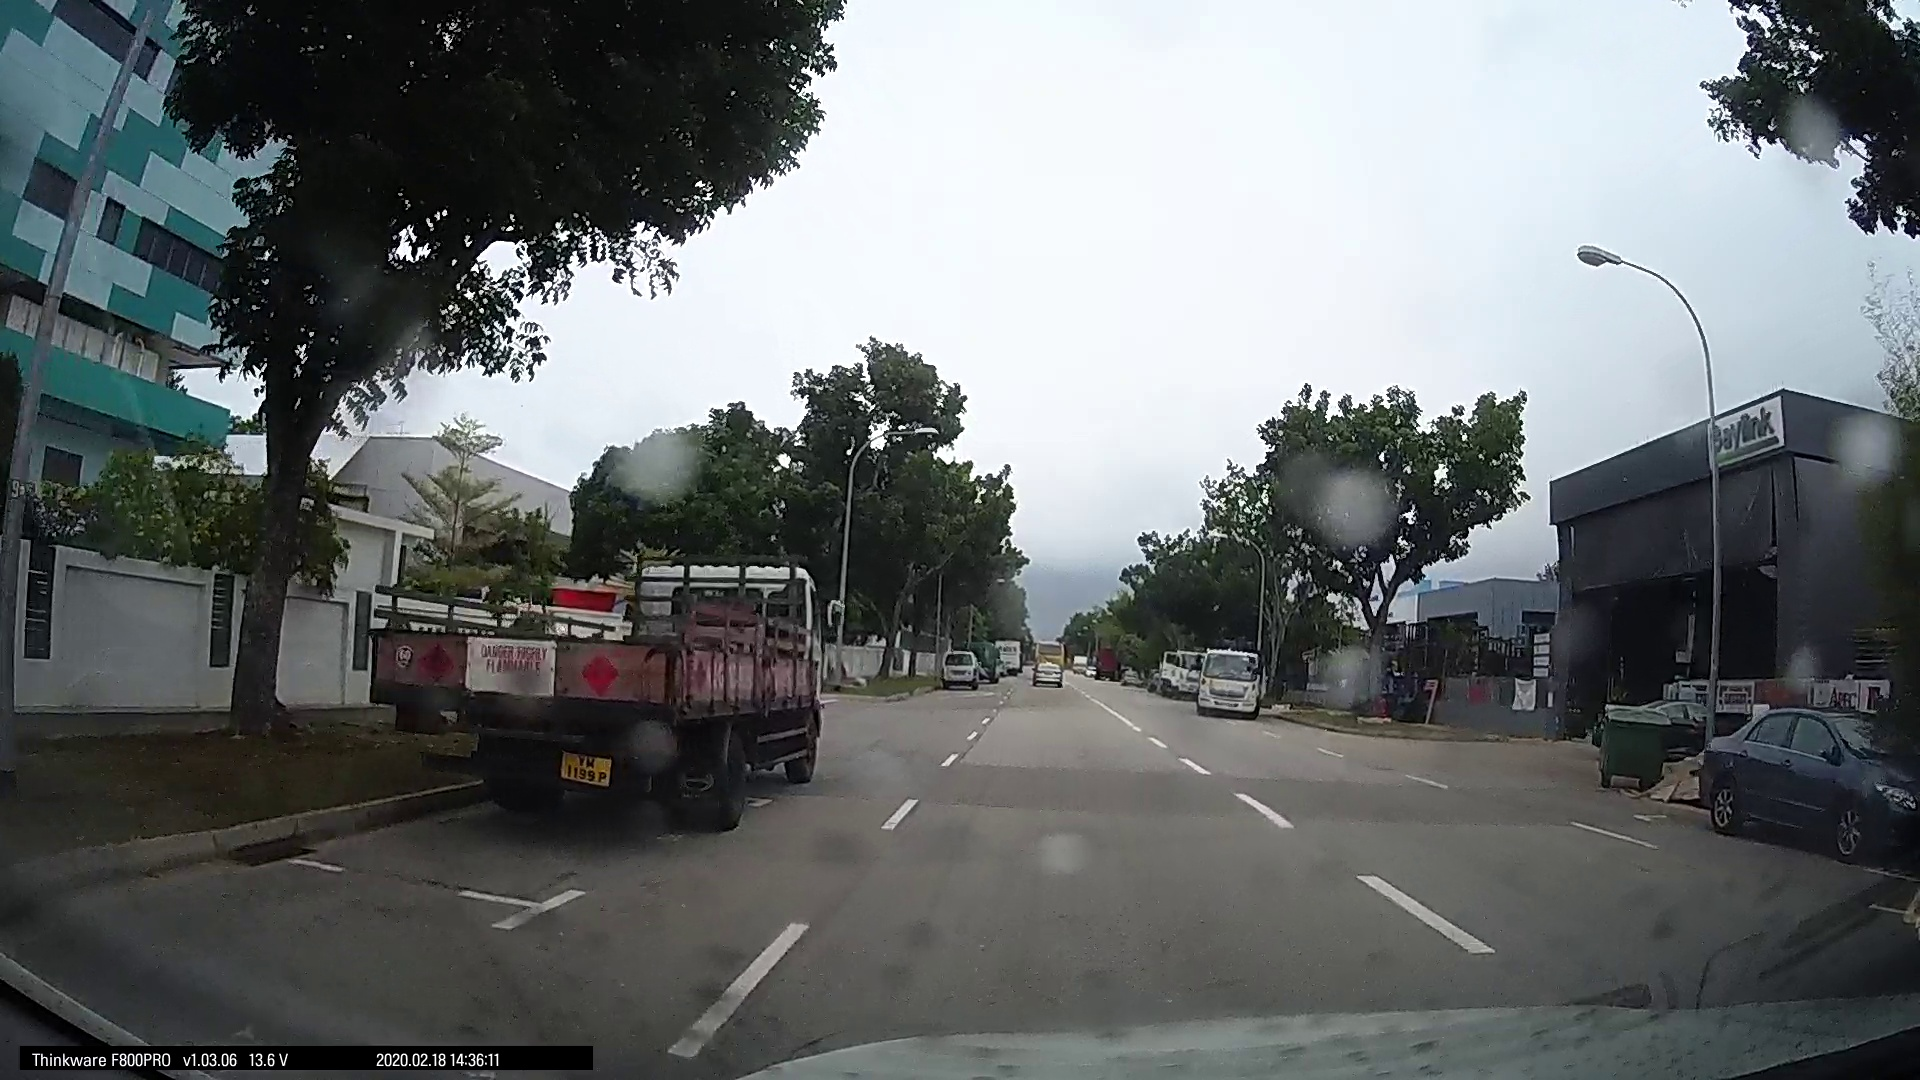Heavy Vehicle: (415, 538, 835, 822)
Light Vehicle: (1695, 702, 1917, 856), (1187, 644, 1262, 717), (935, 644, 984, 688), (1153, 650, 1197, 696), (1023, 645, 1063, 684)
